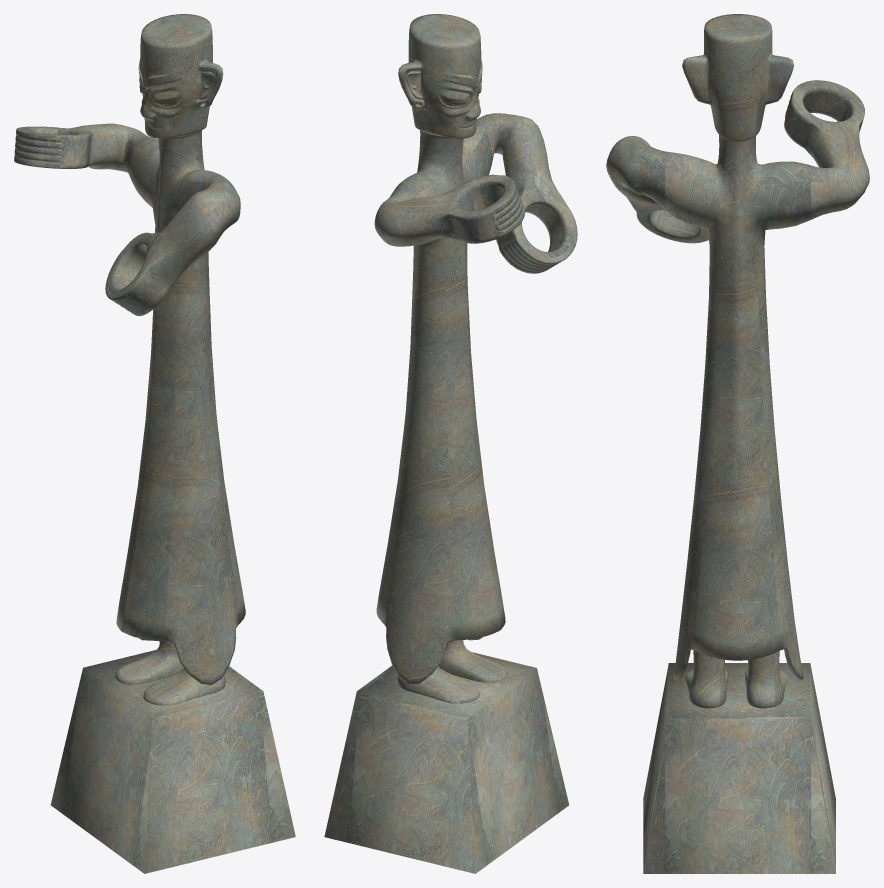
File: sxd.glb
3 views of the same model, side by side, from view 1: azimuth 30°, elevation 25°; view 2: azimuth 150°, elevation 25°; view 3: azimuth 270°, elevation 25° (orthographic). The views are drawn at different scales.
Parts seen in each view (by area): view 1: L256shanxingdui.1; view 2: L256shanxingdui.1; view 3: L256shanxingdui.1.
Boxes of the visible parts, x1=… form: L256shanxingdui.1: x1=14, y1=14, x2=295, y2=873; L256shanxingdui.1: x1=324, y1=14, x2=577, y2=873; L256shanxingdui.1: x1=606, y1=14, x2=869, y2=873.
Bounding box in the file's own units: 1.06 × 4.24 × 1.25.
Materials: 1 (1 with a texture image).
